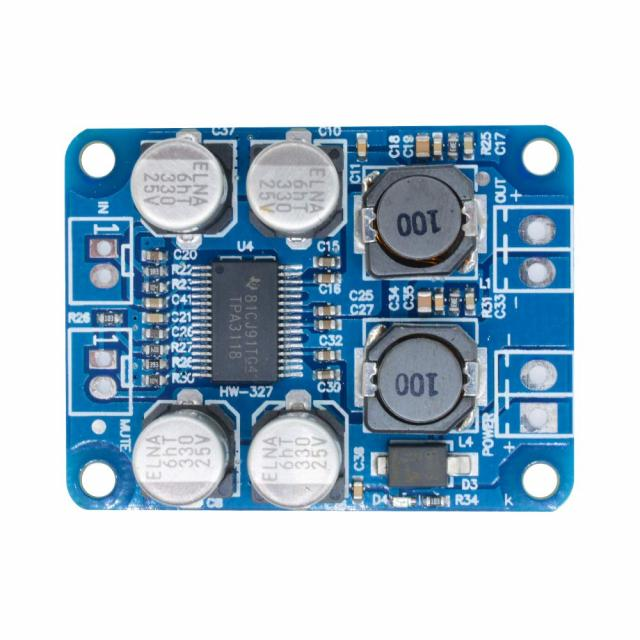IC: (203, 260, 288, 388)
LED: (390, 494, 413, 510)
capacitor 1V5: (126, 407, 232, 511), (132, 139, 232, 236), (250, 136, 342, 236), (247, 410, 341, 506), (416, 133, 431, 158), (416, 292, 433, 312), (355, 136, 369, 158), (144, 249, 163, 263), (462, 136, 474, 158), (432, 134, 443, 157), (319, 256, 337, 270), (464, 293, 477, 312), (144, 298, 164, 310), (318, 304, 338, 316), (316, 369, 336, 381), (353, 482, 365, 502), (319, 319, 338, 331), (318, 350, 339, 360), (434, 294, 444, 314), (145, 313, 163, 324), (145, 329, 163, 340), (318, 274, 337, 284)
diode -D1-: (384, 439, 456, 491)
inductor F1: (364, 164, 480, 282), (362, 317, 480, 433)
resistor IR1: (425, 497, 448, 508), (447, 134, 458, 156), (448, 292, 459, 310), (101, 314, 120, 324), (146, 282, 161, 293), (147, 345, 163, 355), (146, 374, 160, 385), (147, 359, 161, 369), (146, 268, 161, 276)
